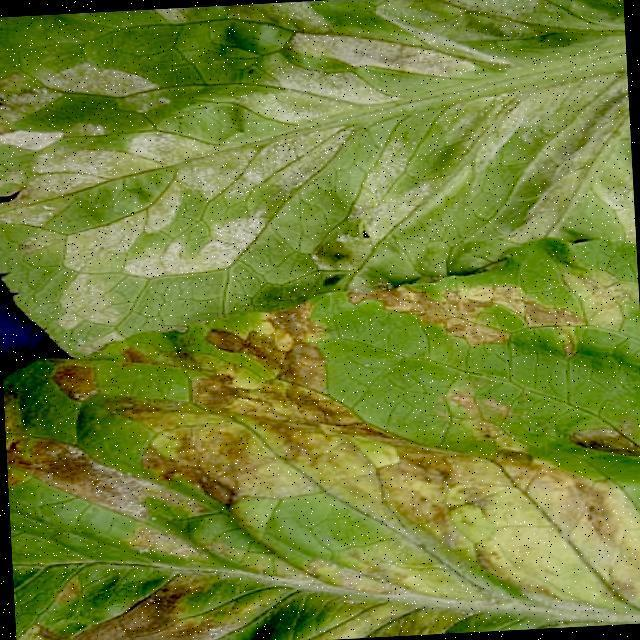Downy_mildew_on_lettuce: (52, 332, 638, 639)
Powdery_mildew_on_lettuce: (1, 6, 532, 292)
